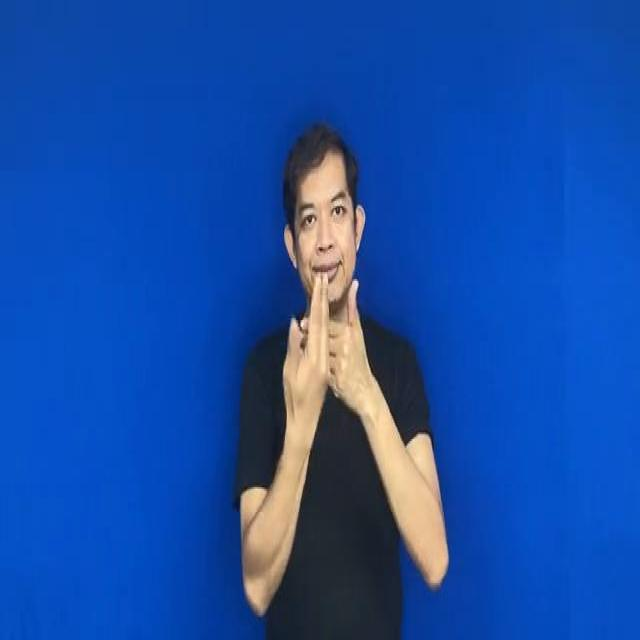bread: (281, 270, 383, 430)
